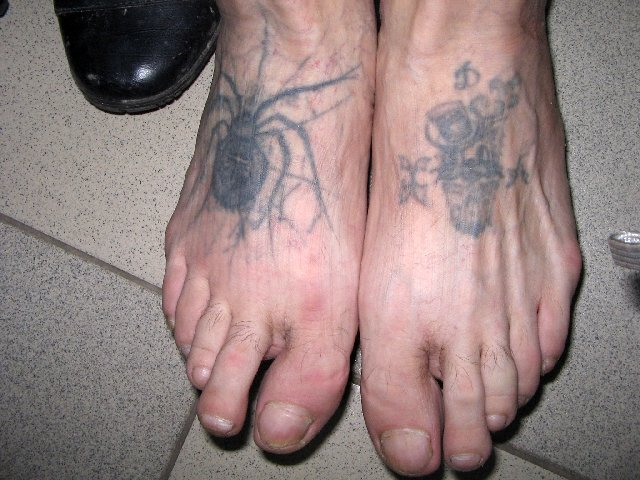tatu3_bukva: (445, 57, 484, 93), (508, 151, 532, 190)
tatu8_kot: (421, 102, 504, 233)
